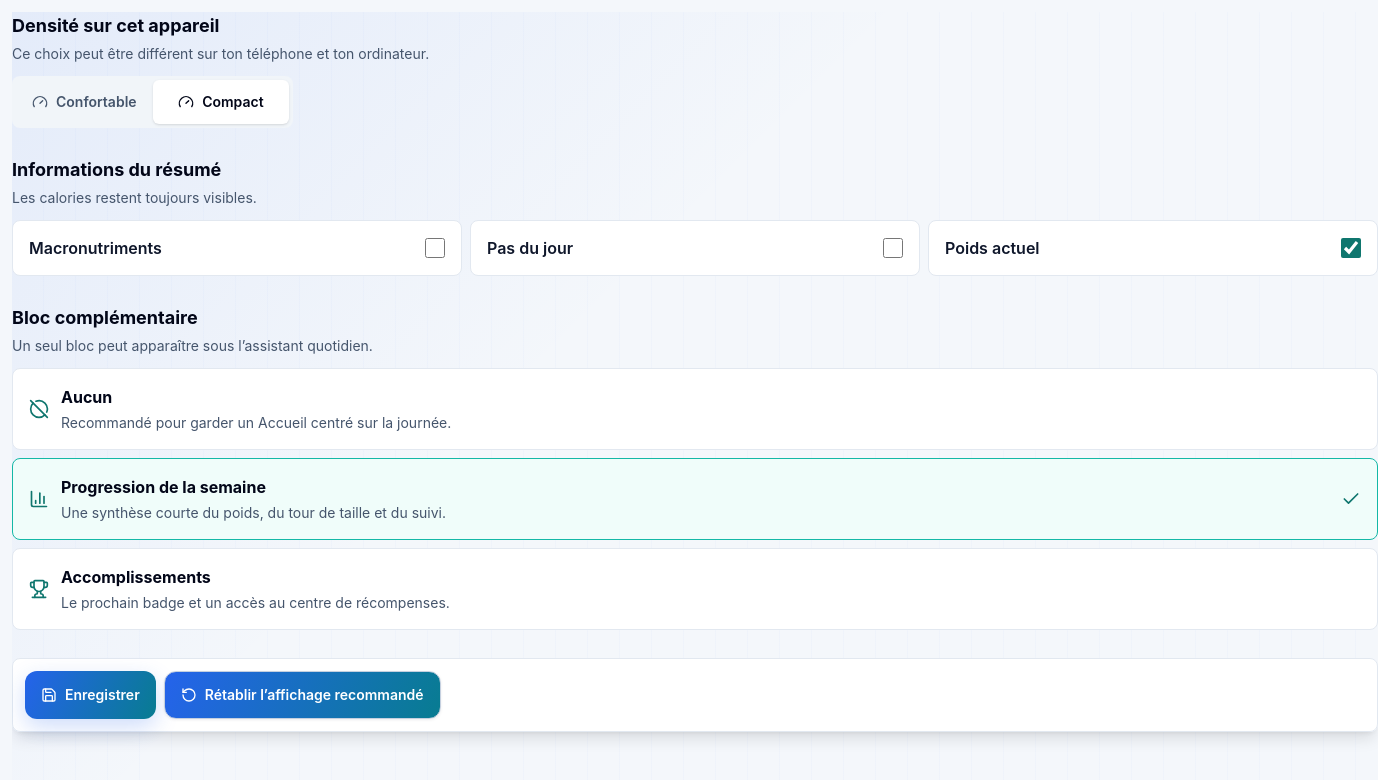
Test case: DashboardCustomizationForm › rétablit l’affichage recommandé
Click the button "Rétablir l’affichage recommandé" at x=302, y=695, box [164,671,441,719]
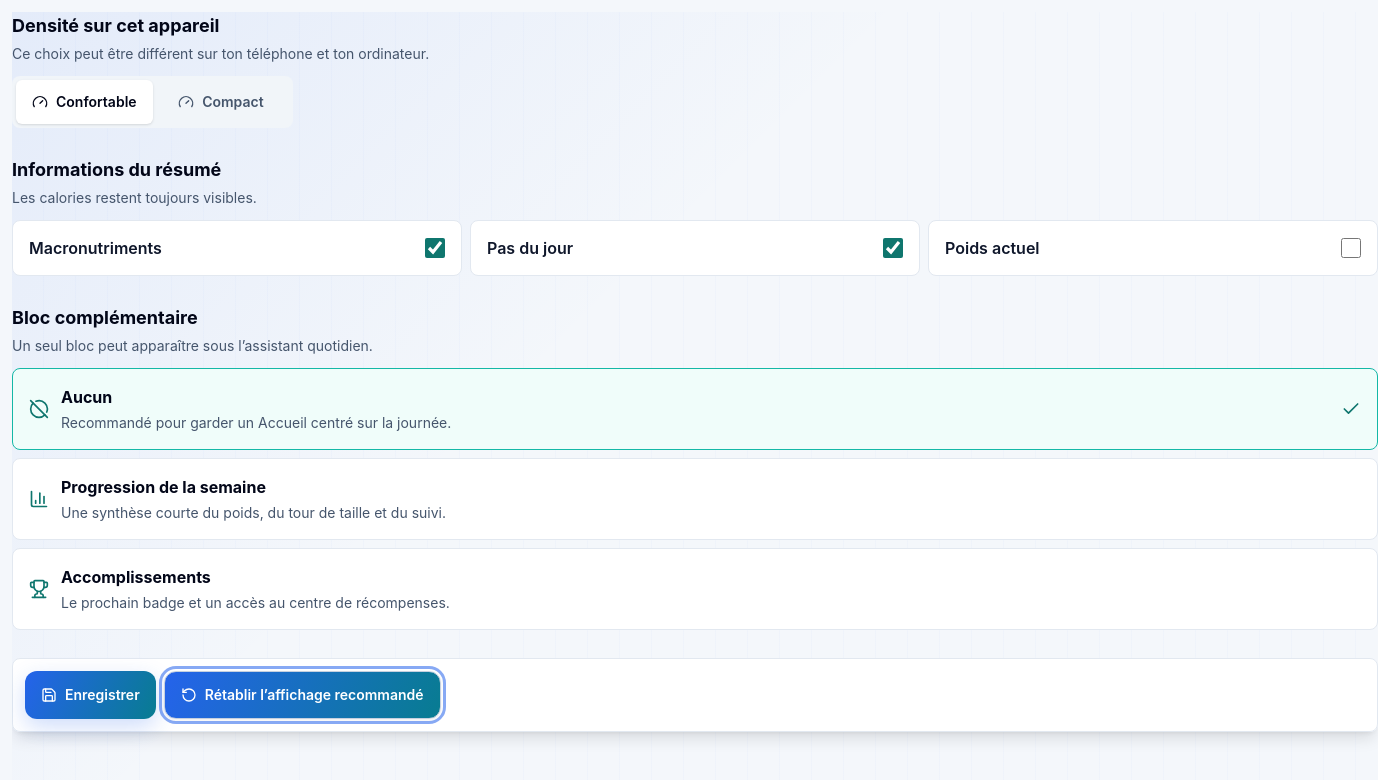
Expected: the radio button labelled "Confortable" is checked, [16,80,153,124]
Expected: the checkbox labelled "Macronutriments" is checked, [425,238,445,258]
Expected: the checkbox labelled "Pas du jour" is checked, [883,238,903,258]
